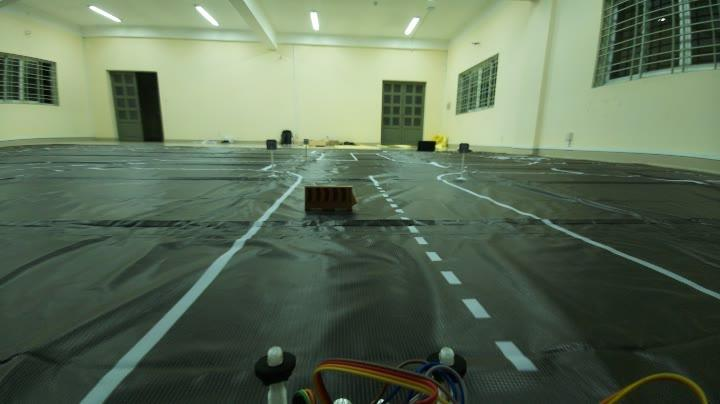roadblock: (300, 181, 358, 222)
